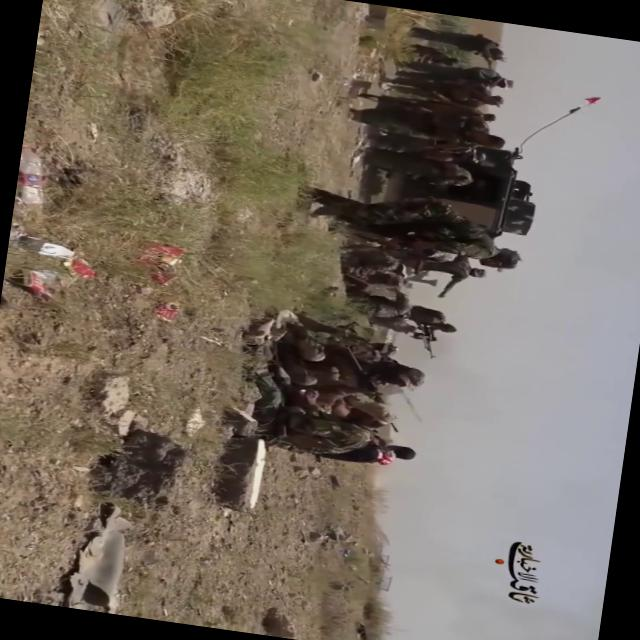long weapon: (399, 314, 445, 364)
